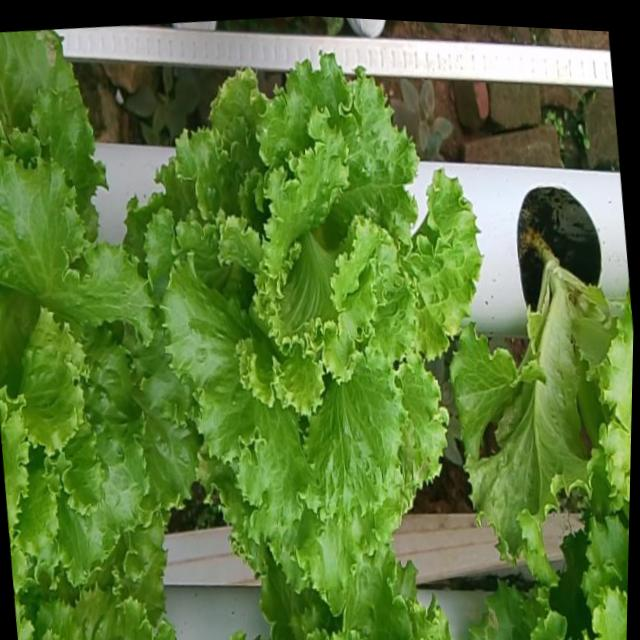Mature: (149, 34, 486, 576), (0, 128, 201, 569)
